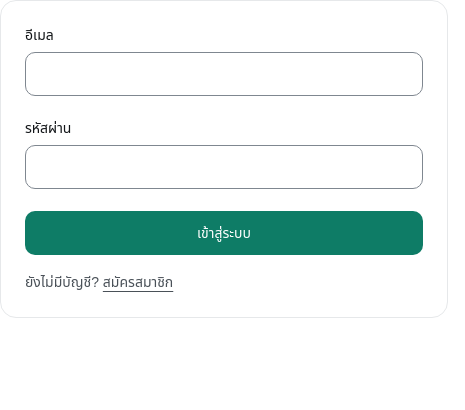
SignInForm › signs in, confirms, and goes to the validated next path
The width and height of the screenshot is (465, 410).
Type "a@example.com" into the field labelled "อีเมล".
click(224, 74); type("a@example.com")  # box x1=25 y1=52 x2=423 y2=96
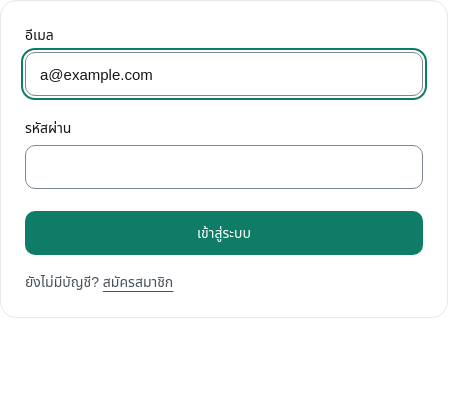
Type "secret" into the password field labelled "รหัสผ่าน".
click(224, 167); type("secret")  # box x1=25 y1=145 x2=423 y2=189
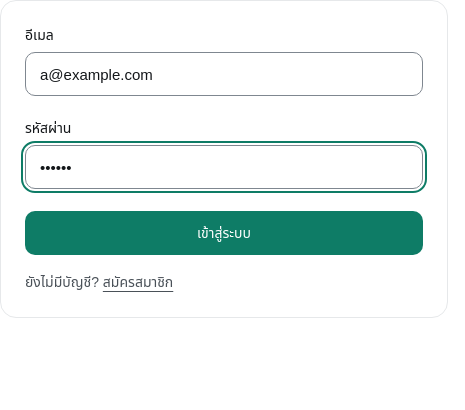
Click the button "เข้าสู่ระบบ".
click(224, 233)  # box x1=25 y1=211 x2=423 y2=255
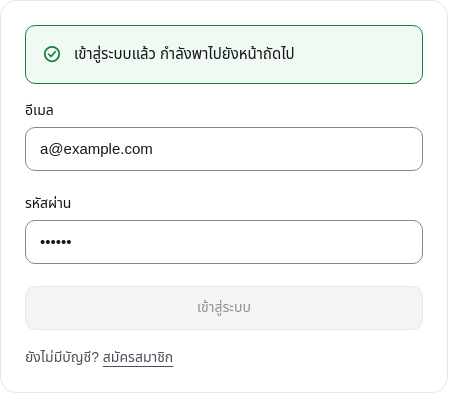
Expected: the text "เข้าสู่ระบบแล้ว กำลังพาไปยังหน้าถัดไป" is shown, x1=74 y1=45 x2=295 y2=62
